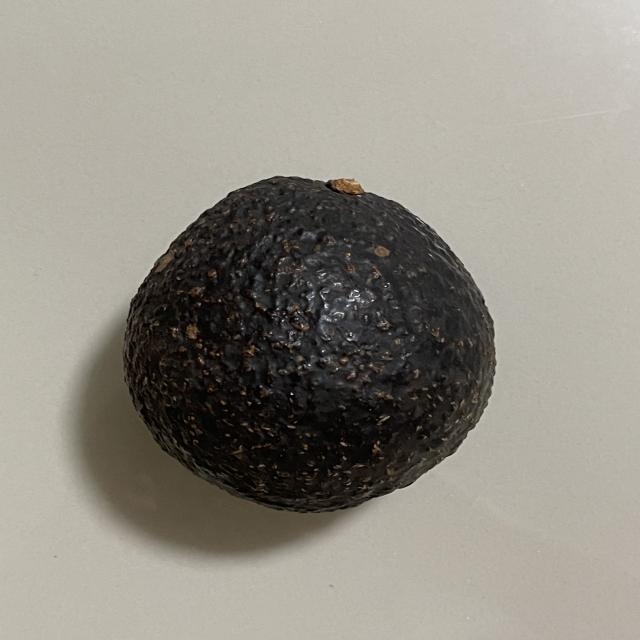Level2: (116, 172, 502, 516)
